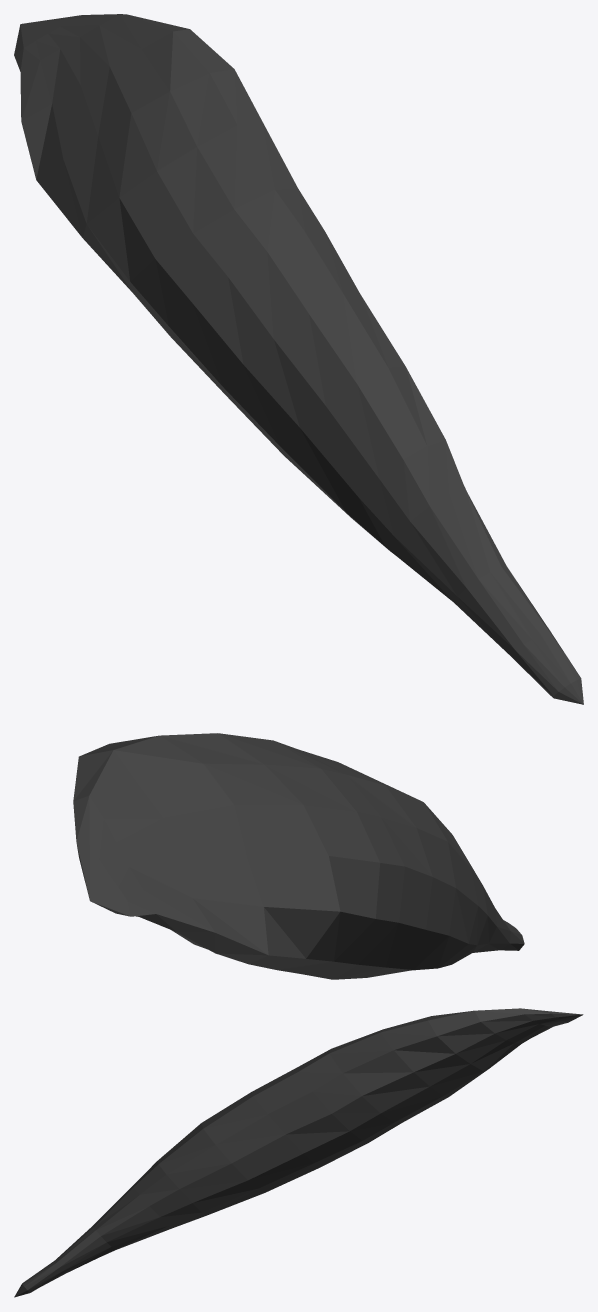
Rendered from QuadratusFemoris.glb.
The picture shows the model from 3 angles, top to bottom: view 1: azimuth 30°, elevation 25°; view 2: azimuth 150°, elevation 25°; view 3: azimuth 270°, elevation 25°; orthographic projection. The views are drawn at different scales.
Visible parts, largest first — view 1: QuadratusFemoris; view 2: QuadratusFemoris; view 3: QuadratusFemoris.
Part boxes in pixels (box(x1,y1,x2,y2)): QuadratusFemoris: box(14, 14, 583, 704); QuadratusFemoris: box(73, 733, 524, 979); QuadratusFemoris: box(14, 1008, 583, 1297).
Bounding box in the file's own units: 0.5721 × 1.21 × 2.31.
1 material, 1 textured.
